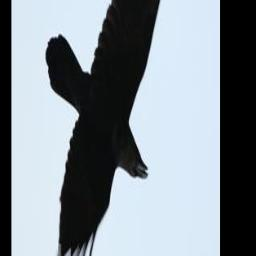Crow: (44, 0, 174, 256)
